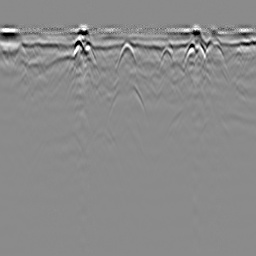cavity: (115, 38, 137, 71)
